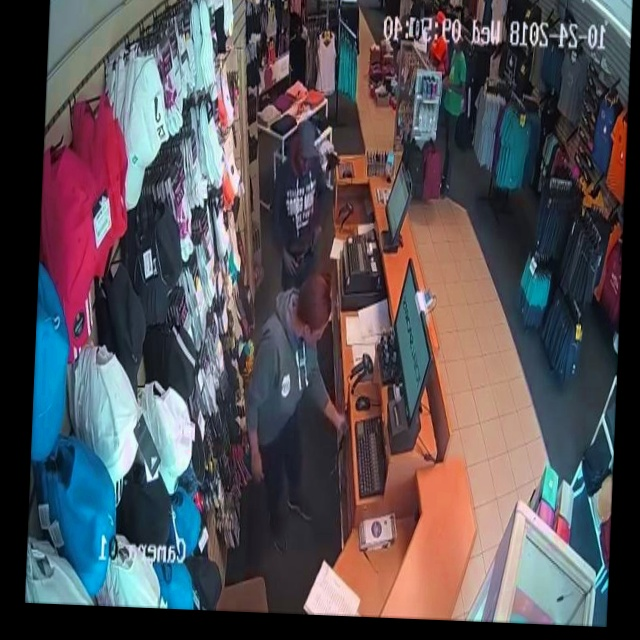gun: (282, 231, 323, 276)
